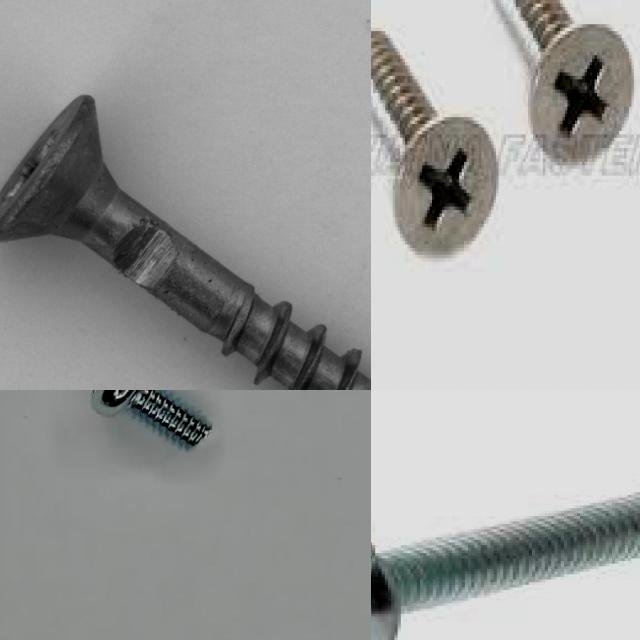Screw: (0, 83, 371, 390), (371, 491, 640, 640), (371, 17, 505, 265), (480, 0, 640, 183), (95, 390, 212, 446)
